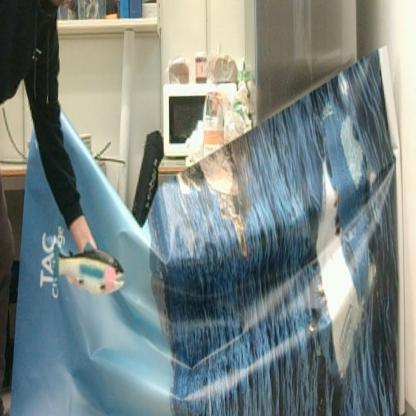rubberfish: (52, 244, 125, 298)
